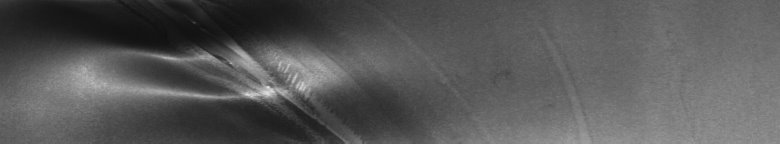ke: (84, 20, 364, 136)
